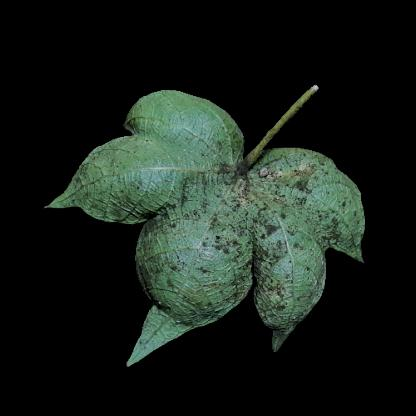curl_stage2: (135, 109, 213, 174), (144, 316, 184, 345), (109, 148, 132, 173)
sooty: (205, 172, 295, 244), (197, 248, 249, 314), (143, 194, 193, 244), (254, 258, 294, 320), (213, 152, 260, 186), (314, 219, 352, 250)
